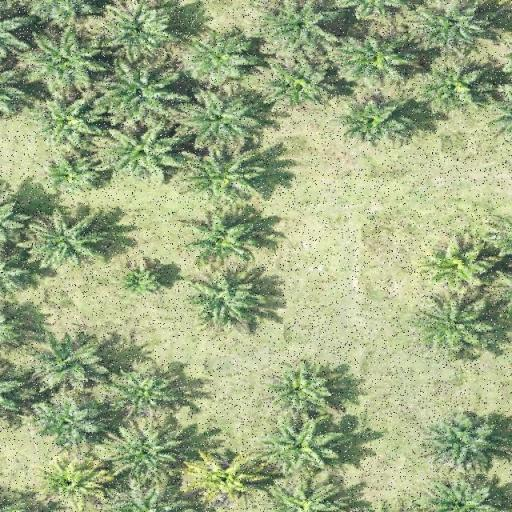Ganoderma: (198, 458, 250, 498), (43, 466, 95, 500)
